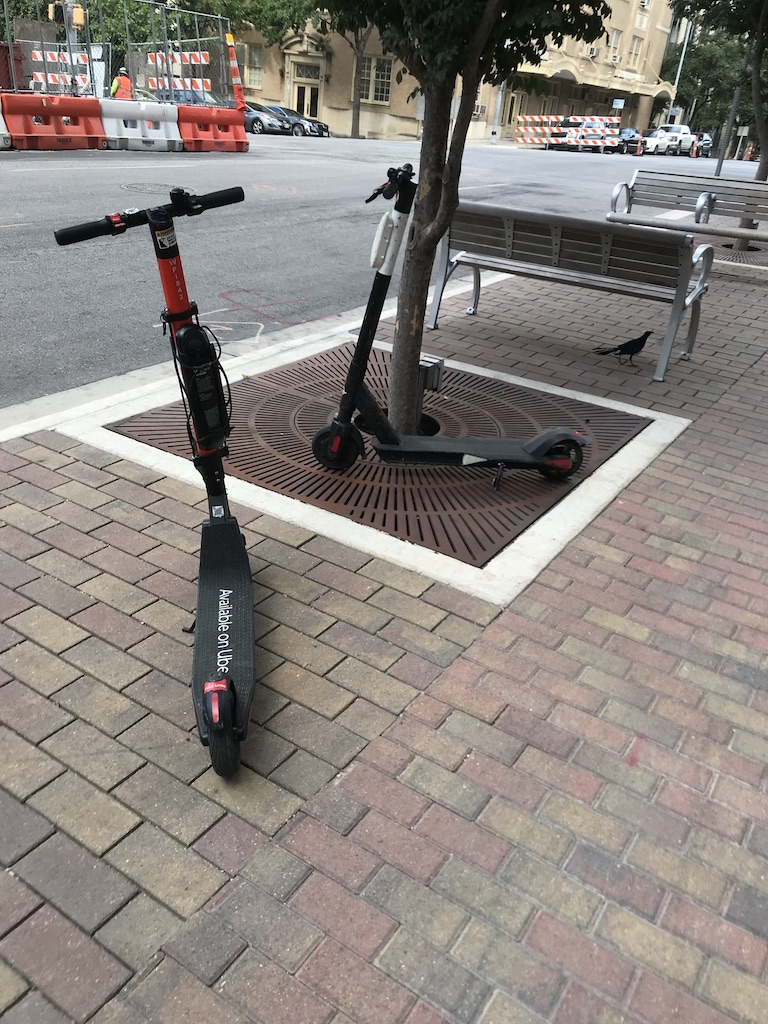scooter: (54, 184, 258, 782), (311, 163, 593, 483)
